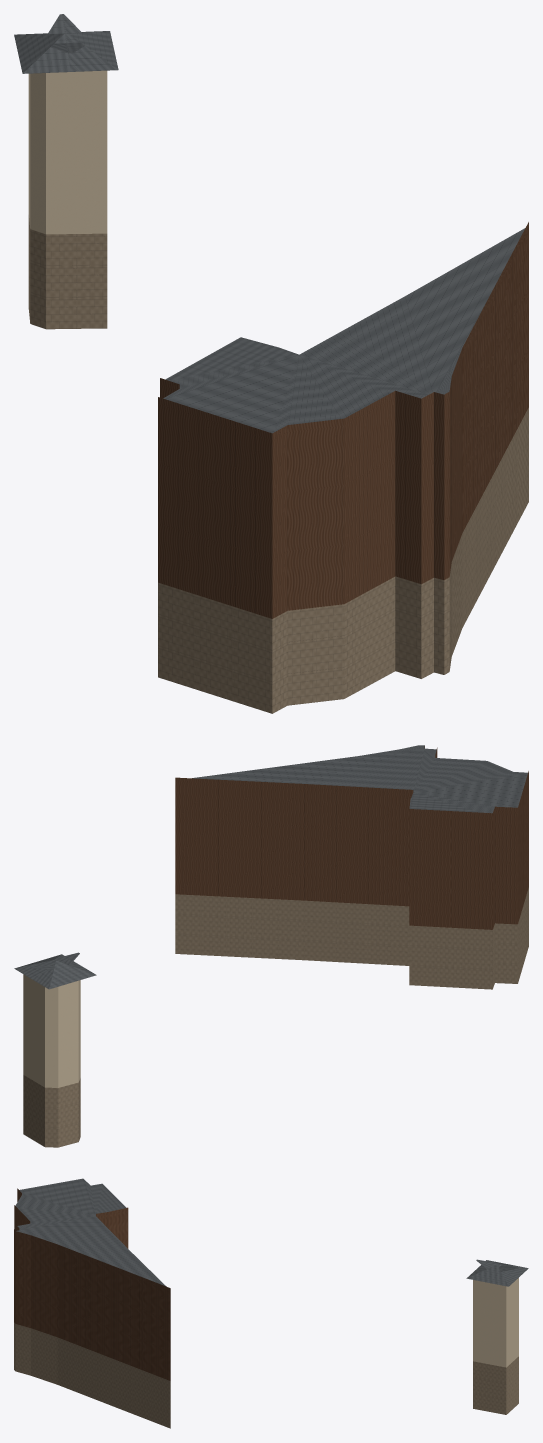
The model's file is bld_c-2_0_536.gltf.
3 views of the same model, one above another, from view 1: azimuth 30°, elevation 25°; view 2: azimuth 150°, elevation 25°; view 3: azimuth 270°, elevation 25° (orthographic). The views are drawn at different scales.
Parts seen in each view (by area): view 1: bld_c-2_0_536; view 2: bld_c-2_0_536; view 3: bld_c-2_0_536.
Part boxes in pixels (box(x1,y1,x2,y2)): bld_c-2_0_536: box(14, 14, 528, 713); bld_c-2_0_536: box(14, 745, 528, 1147); bld_c-2_0_536: box(14, 1178, 528, 1428).
Bounding box in the file's own units: 25.77 × 16.08 × 50.11.
Materials: 5 (5 with a texture image).
